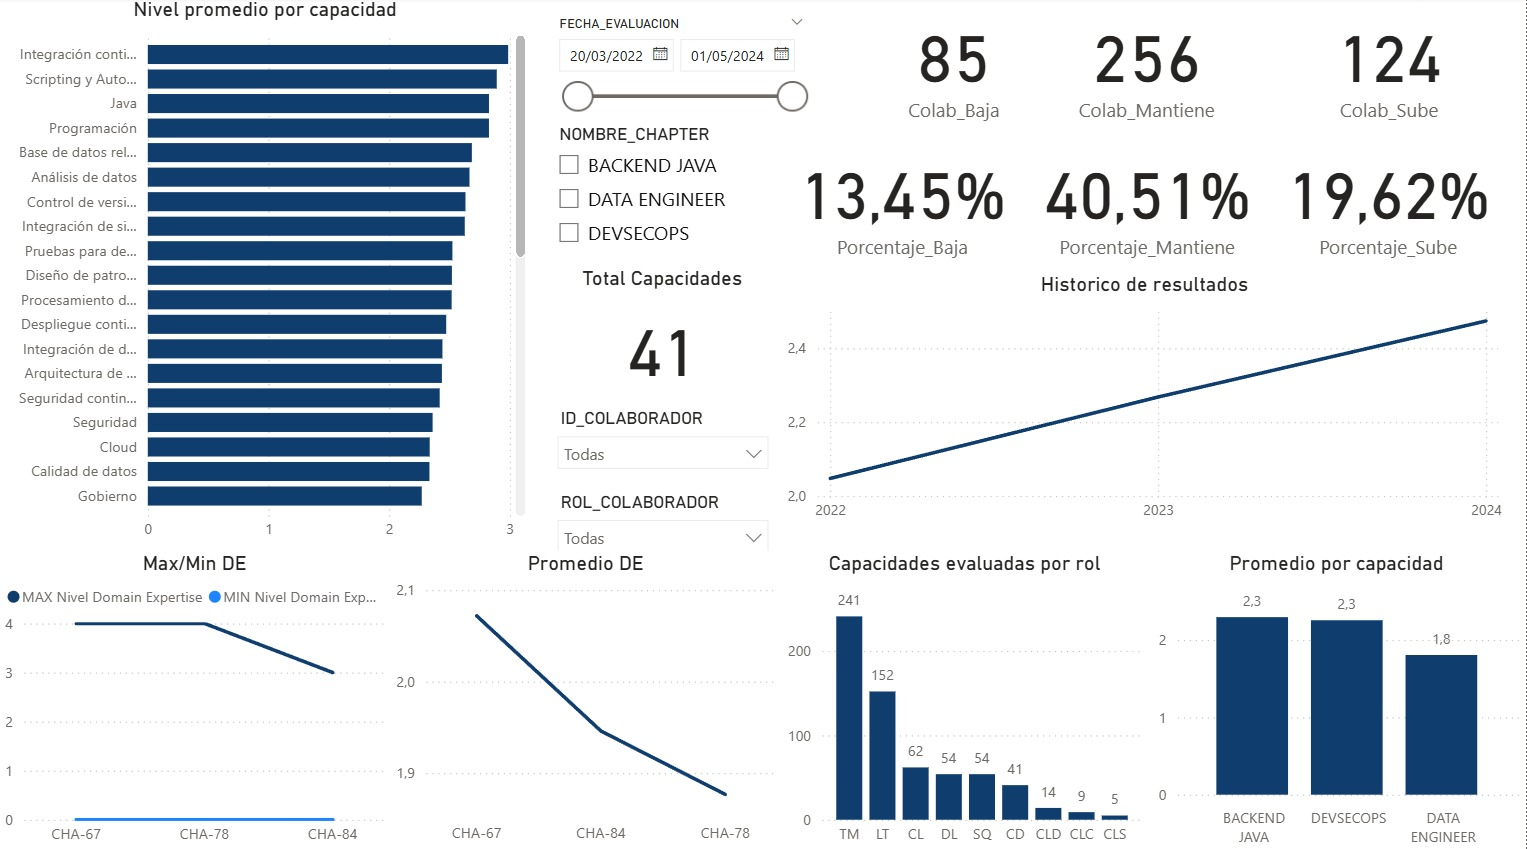

This screenshot's page, from the dashboard's own definition file:
{"tool":"powerbi","page":{"name":"Página 1","canvas":[1280,720],"ordinal":1},"visuals":[{"type":"clusteredBarChart","title":"Nivel promedio por capacidad","fields":{"Category":["dim_items.NOMBRE_ITEM"],"Y":["Medida.Nivel Promedio por Capacidad"]},"box":[0,0,446.6,464.4],"z":0},{"type":"card","title":"Total Capacidades","fields":{"Values":["Medida.CapacidadesEvaluadas"]},"box":[457.3,224.9,198.5,114.3],"z":1000},{"type":"slicer","fields":{"Values":["dim_colaboradores.ID_COLABORADOR"]},"box":[458.6,339.2,197.3,70.4],"z":2000},{"type":"slicer","fields":{"Values":["dim_colaboradores.ROL_COLABORADOR"]},"box":[458.6,409.6,197.3,55.3],"z":3000},{"type":"slicer","fields":{"Values":["dim_chapters.NOMBRE_CHAPTER"]},"box":[457.3,101.8,184.7,121.9],"z":4000},{"type":"slicer","fields":{"Values":["hecho_evaluaciones.FECHA_EVALUACION"]},"box":[457.1,10.5,229.6,92.3],"z":5000},{"type":"card","fields":{"Values":["MED.Colab_Baja"]},"box":[741.8,0,117.7,112.6],"z":6000},{"type":"card","fields":{"Values":["MED.Colab_Mantiene"]},"box":[899.1,0,126.6,112.6],"z":7000},{"type":"card","fields":{"Values":["MED.Colab_Sube"]},"box":[1102.5,0,126.6,112.6],"z":8000},{"type":"card","fields":{"Values":["MED.Porcentaje_Baja"]},"box":[656.1,112.6,203.4,117.7],"z":9000},{"type":"card","fields":{"Values":["MED.Porcentaje_Mantiene"]},"box":[859.5,112.6,207.2,117.7],"z":10000},{"type":"card","fields":{"Values":["MED.Porcentaje_Sube"]},"box":[1066.7,112.6,198.2,117.7],"z":11000},{"type":"lineChart","title":"Historico de resultados","fields":{"Category":["hecho_evaluaciones.FECHA_EVALUACION.Variación.Jerarquía de fechas.Año"],"Y":["Medida.Nivel Promedio por Item"]},"box":[656.3,230.6,609.1,218.1],"z":12000},{"type":"clusteredColumnChart","title":"Capacidades evaluadas por rol","fields":{"Category":["dim_colaboradores.ROL_COLABORADOR"],"Y":["CountNonNull(dim_colaboradores.ID_COLABORADOR)"]},"box":[656.3,464.4,307.2,255.8],"z":13000},{"type":"clusteredColumnChart","title":"Promedio por capacidad ","fields":{"Y":["Medida.PromedioPorCapacidad"],"Category":["dim_chapters.NOMBRE_CHAPTER"]},"box":[963.4,464.4,316.6,255.8],"z":14000},{"type":"lineChart","title":"Max/Min DE ","fields":{"Category":["dim_chapters.ID_CHAPTER"],"Y":["Medida.MAX Nivel Domain Expertise","Medida.MIN Nivel Domain Expertise"]},"box":[0,464.4,328.1,255.8],"z":15000},{"type":"lineChart","title":"Promedio DE","fields":{"Category":["dim_chapters.ID_CHAPTER"],"Y":["Medida.PromedioDEPorChapter"]},"box":[327.9,464.9,327.9,255],"z":16000}]}

Visuals, with their boxes in screenshot pixels (x1, y1, x2, y2), scaled from the page's 1280x720 canvas onto the 1527x849 screenshot:
"Nivel promedio por capacidad" clusteredBarChart: (0, 0, 533, 548)
"Total Capacidades" card: (546, 265, 782, 400)
slicer - dim_colaboradores.ID_COLABORADOR: (547, 400, 782, 483)
slicer - dim_colaboradores.ROL_COLABORADOR: (547, 483, 782, 548)
slicer - dim_chapters.NOMBRE_CHAPTER: (546, 120, 766, 264)
slicer - hecho_evaluaciones.FECHA_EVALUACION: (545, 12, 819, 121)
card - MED.Colab_Baja: (885, 0, 1025, 133)
card - MED.Colab_Mantiene: (1073, 0, 1224, 133)
card - MED.Colab_Sube: (1315, 0, 1466, 133)
card - MED.Porcentaje_Baja: (783, 133, 1025, 272)
card - MED.Porcentaje_Mantiene: (1025, 133, 1273, 272)
card - MED.Porcentaje_Sube: (1273, 133, 1509, 272)
"Historico de resultados" lineChart: (783, 272, 1510, 529)
"Capacidades evaluadas por rol" clusteredColumnChart: (783, 548, 1149, 848)
"Promedio por capacidad " clusteredColumnChart: (1149, 548, 1526, 848)
"Max/Min DE " lineChart: (0, 548, 391, 848)
"Promedio DE" lineChart: (391, 548, 782, 848)
